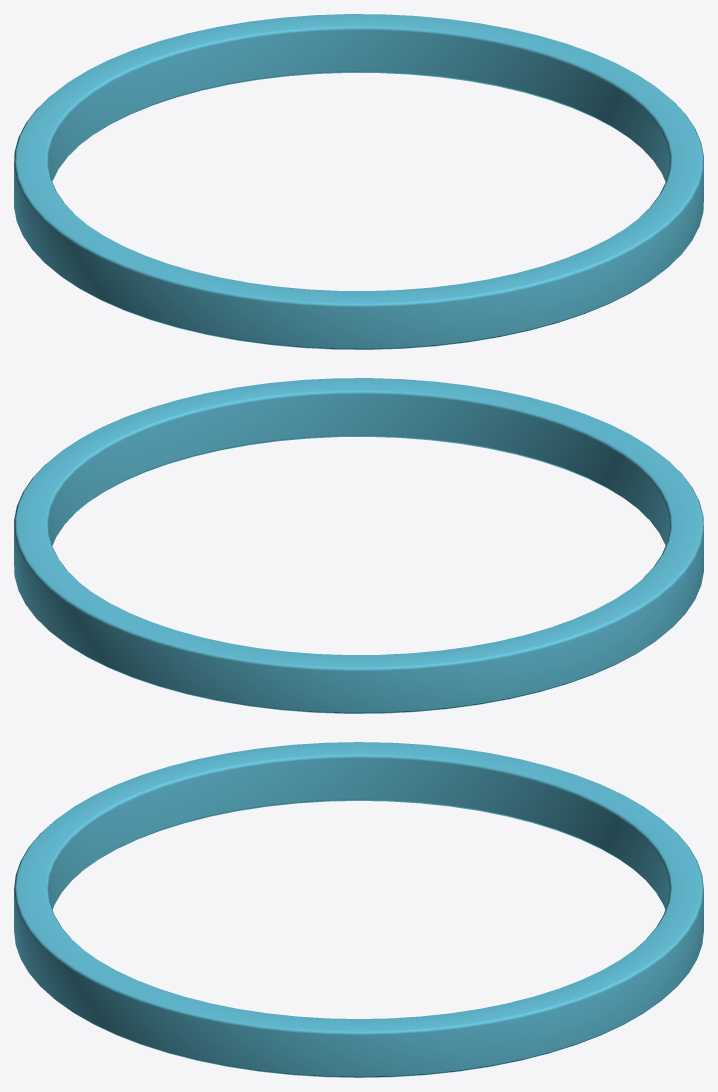
3 views of the same model, one above another, from view 1: azimuth 30°, elevation 25°; view 2: azimuth 150°, elevation 25°; view 3: azimuth 270°, elevation 25° (orthographic).
Visible parts, largest first — view 1: seal_body; view 2: seal_body; view 3: seal_body.
Boxes of the visible parts, x1,y1,x2,y2 form: seal_body: (14, 14, 703, 349); seal_body: (14, 378, 703, 713); seal_body: (14, 742, 703, 1077).
Size of the model in its own units: 0.127 by 0.00952 by 0.127.
